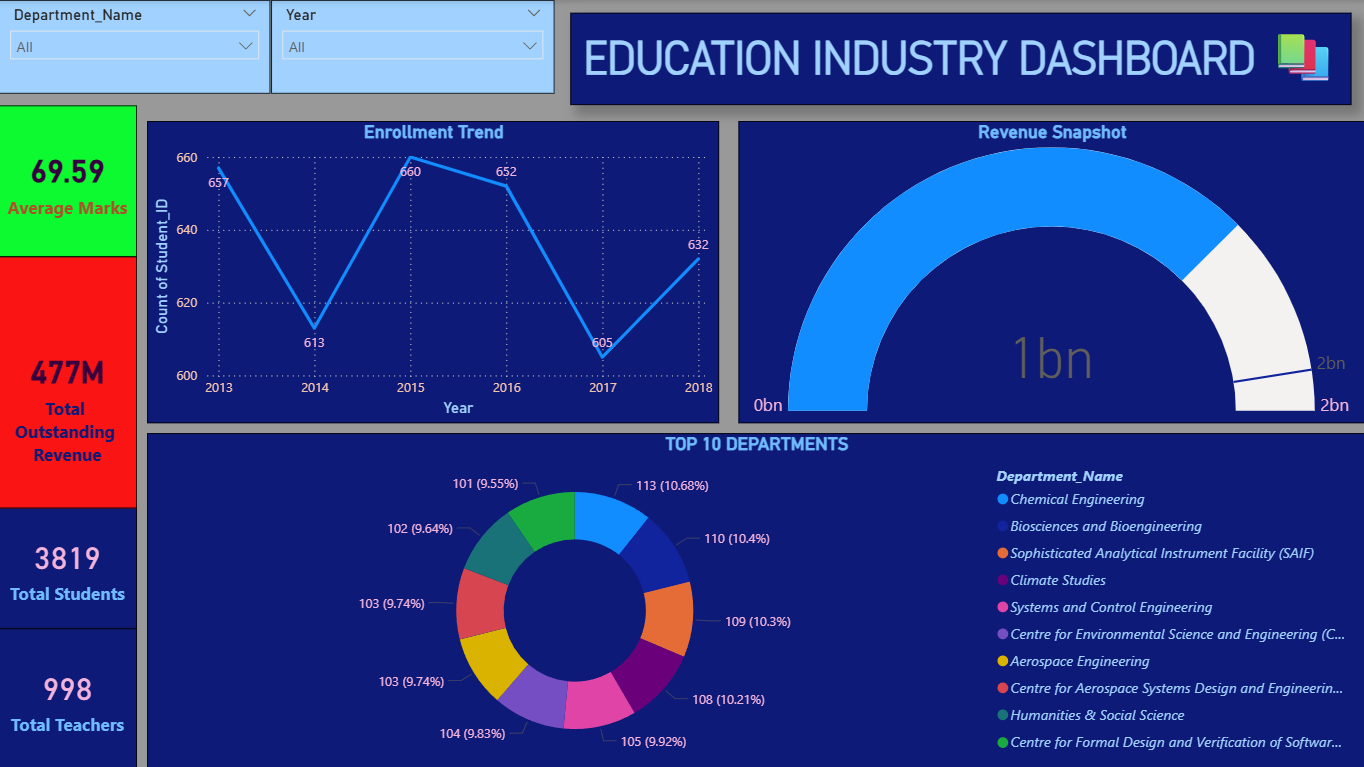

This screenshot's page, from the dashboard's own definition file:
{"tool":"powerbi","page":{"name":"Overview","canvas":[1280,720],"ordinal":0},"visuals":[{"type":"textbox","box":[535.4,11.4,731.4,86.6],"z":0},{"type":"card","fields":{"Values":["Table.Total Students"]},"box":[0,475.1,128.9,113.5],"z":1000},{"type":"card","fields":{"Values":["Table.Total Teachers"]},"box":[0,588.7,128.9,131.7],"z":2000},{"type":"lineChart","title":"Enrollment Trend","fields":{"Category":["Stu Details.DOA.Variation.Date Hierarchy.Year"],"Y":["Count(Stu Details.Student_ID)"]},"box":[139.2,113.6,535.4,282.6],"z":3000},{"type":"donutChart","title":"TOP 10 DEPARTMENTS","fields":{"Category":["Dept Details.Department_Name"],"Y":["Count(Stu Details.Student_ID)"]},"box":[139.2,406.2,1140.4,313.9],"z":4000},{"type":"slicer","fields":{"Values":["Stu Details.DOA.Variation.Date Hierarchy.Year"]},"box":[254.2,0,265.6,88.1],"z":5000},{"type":"gauge","title":"Revenue Snapshot","fields":{"Y":["Table.Revenue Collected"],"MaxValue":["Table.Expected Revenue"],"TargetValue":["Table.Rate Revenue"]},"box":[693.1,113.6,586.6,282.6],"z":6000},{"type":"slicer","fields":{"Values":["Dept Details.Department_Name"]},"box":[0,0,254.2,88.1],"z":7000},{"type":"card","fields":{"Values":["Table.Total Outstanding Revenue"]},"box":[0,239.7,128.9,235.5],"z":8000},{"type":"card","fields":{"Values":["Table.Average Marks"]},"box":[0,98.1,128.9,141.6],"z":9000}]}

Visuals, with their boxes in screenshot pixels (x1, y1, x2, y2), scaled from the page's 1280x720 canvas onto the 1364x767 screenshot:
textbox: l=571, t=12, r=1350, b=104
card - Table.Total Students: l=0, t=506, r=137, b=627
card - Table.Total Teachers: l=0, t=627, r=137, b=766
"Enrollment Trend" lineChart: l=148, t=121, r=719, b=422
"TOP 10 DEPARTMENTS" donutChart: l=148, t=433, r=1363, b=766
slicer - Stu Details.DOA.Variation.Date Hierarchy.Year: l=271, t=0, r=554, b=94
"Revenue Snapshot" gauge: l=739, t=121, r=1363, b=422
slicer - Dept Details.Department_Name: l=0, t=0, r=271, b=94
card - Table.Total Outstanding Revenue: l=0, t=255, r=137, b=506
card - Table.Average Marks: l=0, t=105, r=137, b=255
